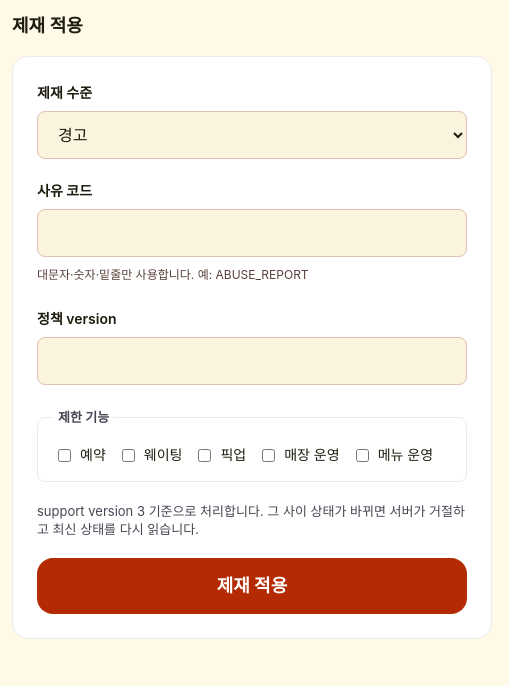
Test: 회원 제재 적용 › 사유 코드 형식이 계약과 다르면 보내기 전에 막는다
Type "abuse report" into the field labelled "사유 코드" at (252, 233), box x1=37 y1=209 x2=467 y2=257
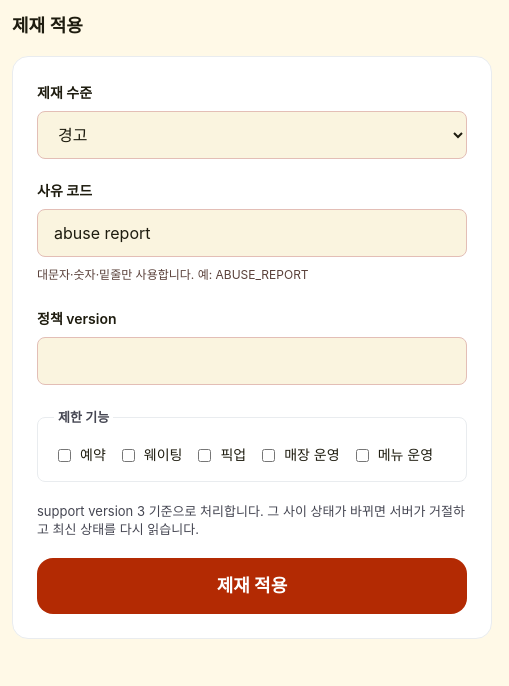
Type "SANCTION_POLICY_V1" into the field labelled "정책 version" at (252, 361), box x1=37 y1=337 x2=467 y2=385
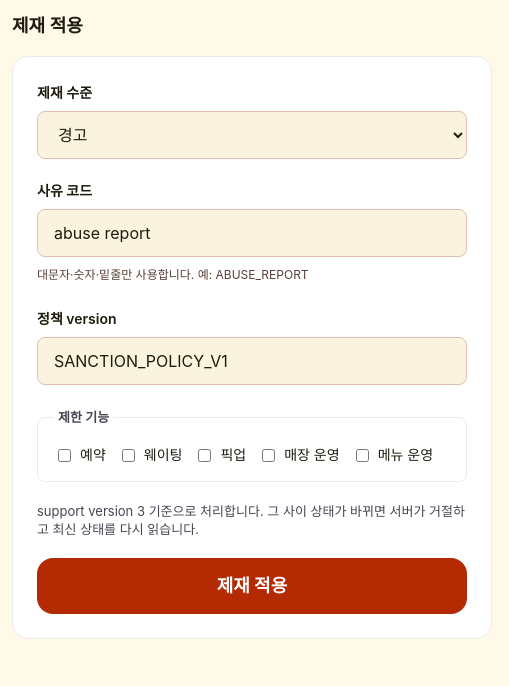
Click the button "제재 적용" at (252, 586), box x1=37 y1=558 x2=467 y2=614
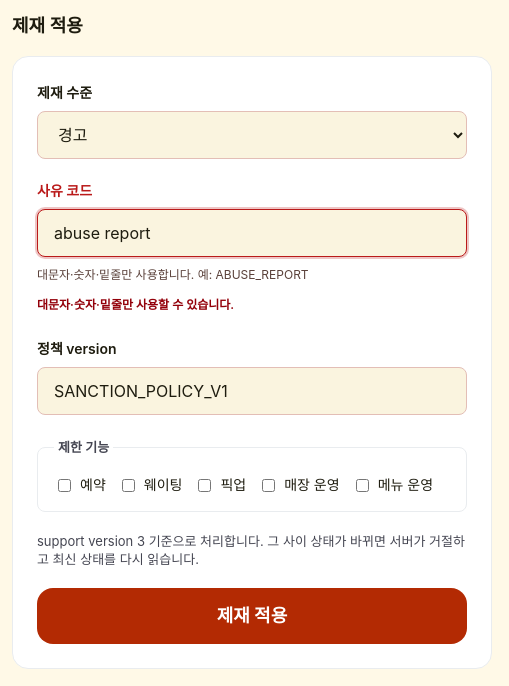
Expected: the text "대문자·숫자·밑줄만 사용할 수 있습니다." is shown, x1=37 y1=297 x2=234 y2=312
